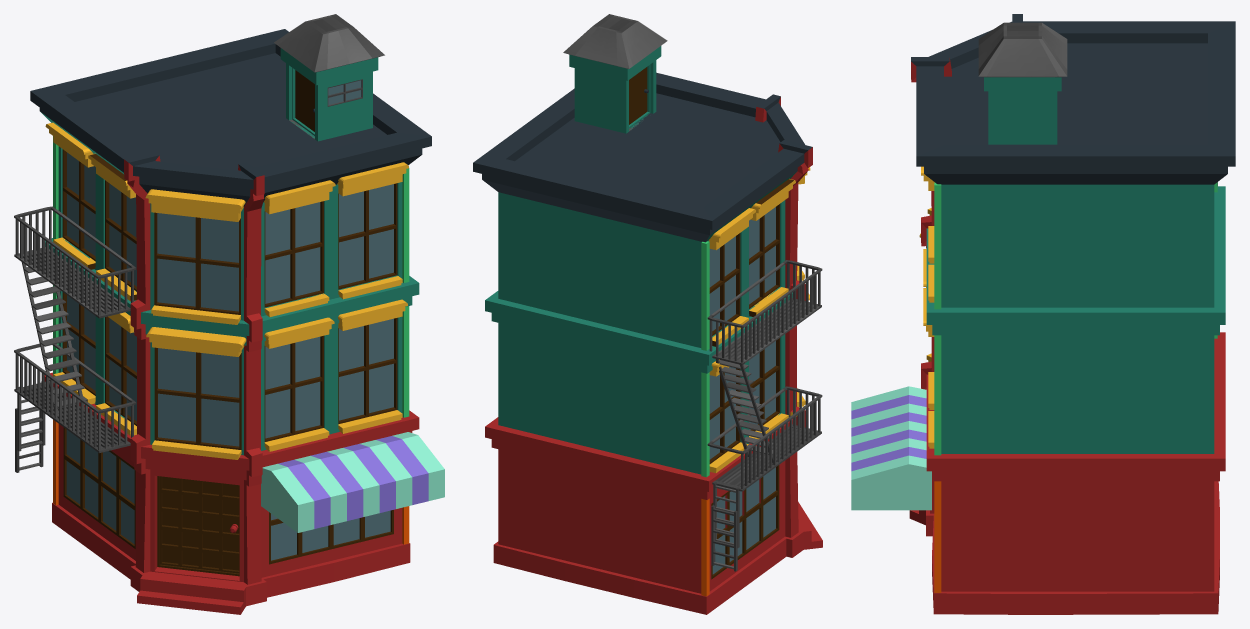
The model's file is Corner_Building_Green.fbx.
3 views of the same model, side by side, from view 1: azimuth 30°, elevation 25°; view 2: azimuth 150°, elevation 25°; view 3: azimuth 270°, elevation 25° (orthographic). The views are drawn at different scales.
Visible parts, largest first — view 1: Cube.002; view 2: Cube.002; view 3: Cube.002.
Boxes of the visible parts, <box> form: Cube.002: <box>14,14,444,614</box>; Cube.002: <box>473,14,822,614</box>; Cube.002: <box>851,14,1235,614</box>.
Size of the model in its own units: 1669 by 1522 by 2694.
